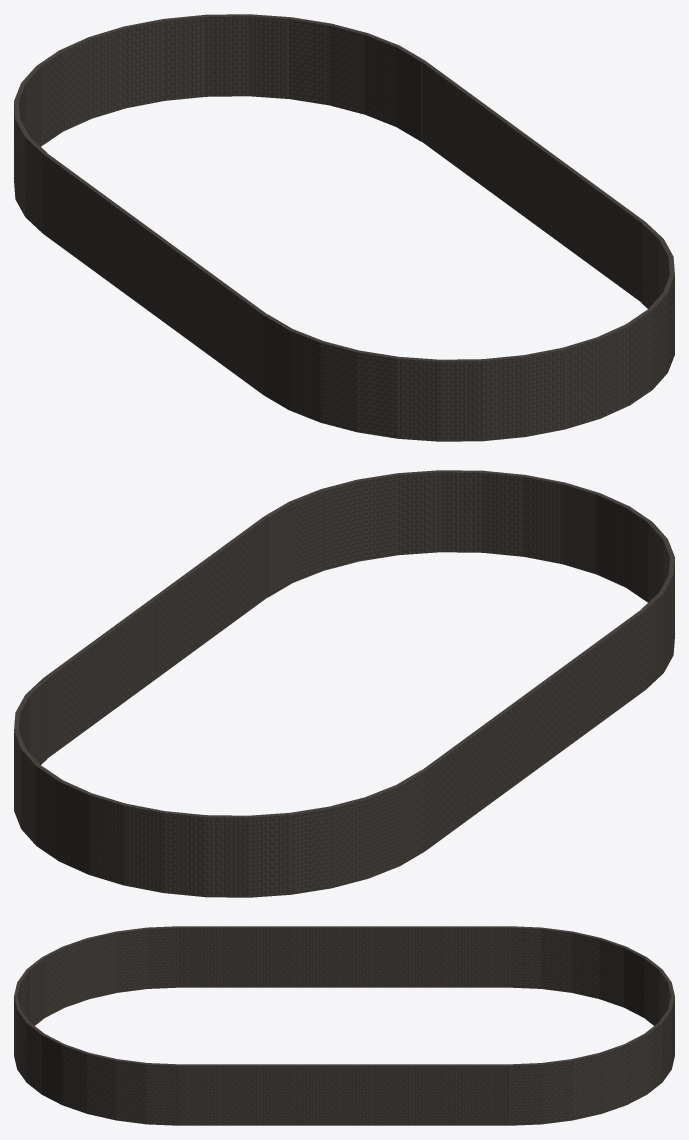
Rendered from Arch.obj.
The picture shows the model from 3 angles, top to bottom: view 1: azimuth 30°, elevation 25°; view 2: azimuth 150°, elevation 25°; view 3: azimuth 270°, elevation 25°; orthographic projection. The views are drawn at different scales.
Parts seen in each view (by area): view 1: Arch; view 2: Arch; view 3: Arch.
Boxes of the visible parts, x1,y1,x2,y2 form: Arch: [14, 14, 674, 441]; Arch: [14, 470, 674, 897]; Arch: [14, 926, 674, 1125].
Size of the model in its own units: 50 by 10 by 100.
Materials: 1 (1 with a texture image).
